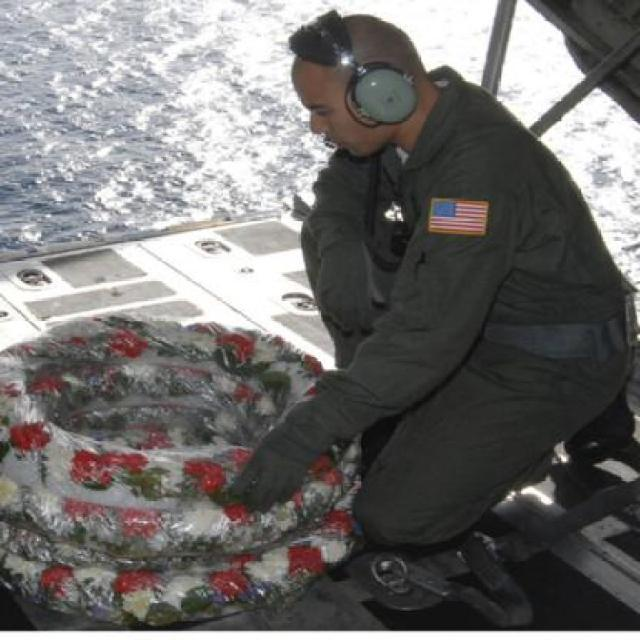earphone: (287, 15, 448, 127)
